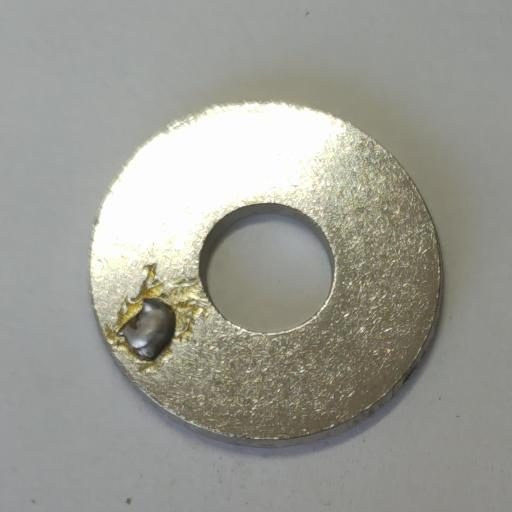excess_material: (116, 298, 176, 362)
